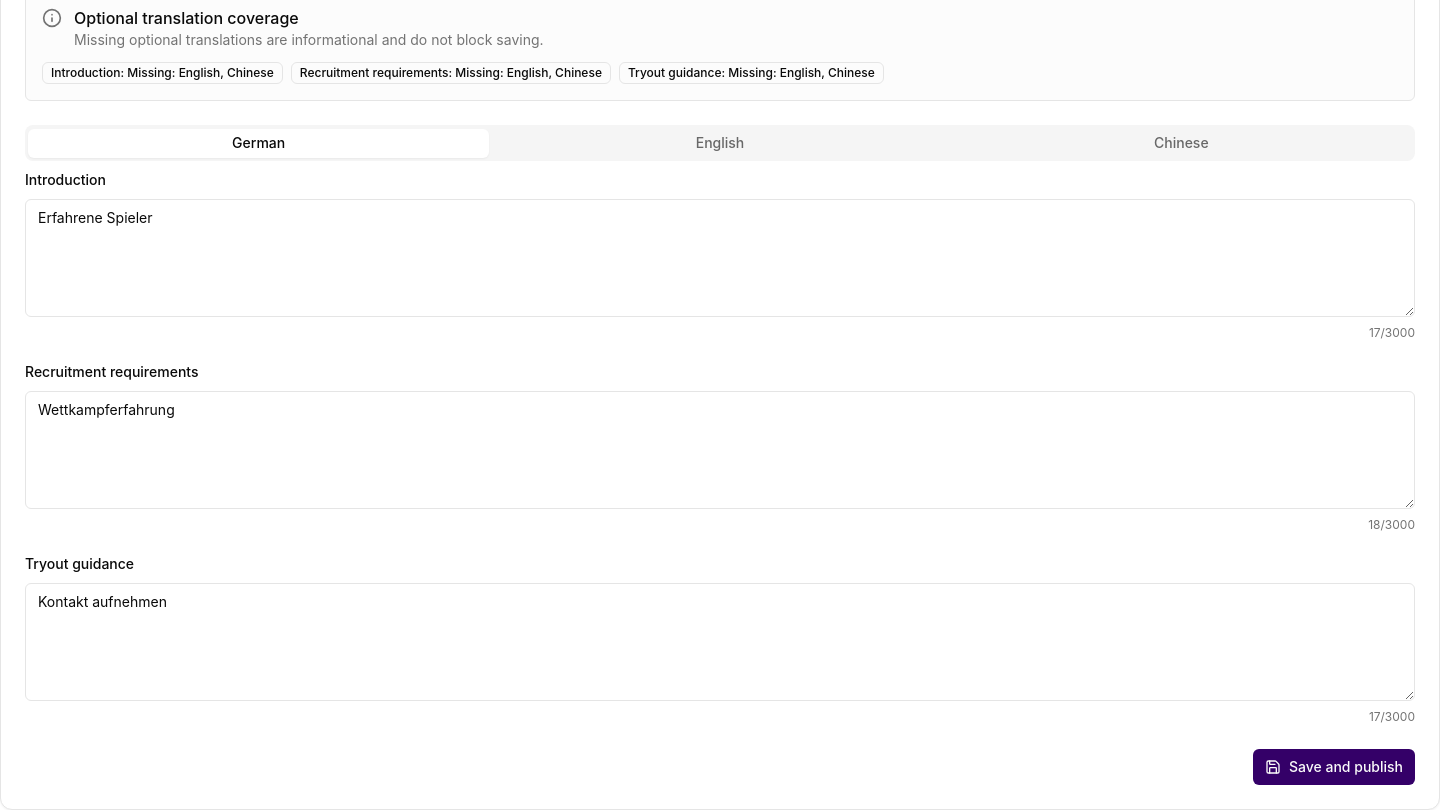
Test: RecruitmentContentEditor › does not publish when Recruitment persistence fails
(page scrolled)
Step 1. Click the button "Save and publish" → (1334, 767), box [1253,749,1415,785]
(page scrolled)
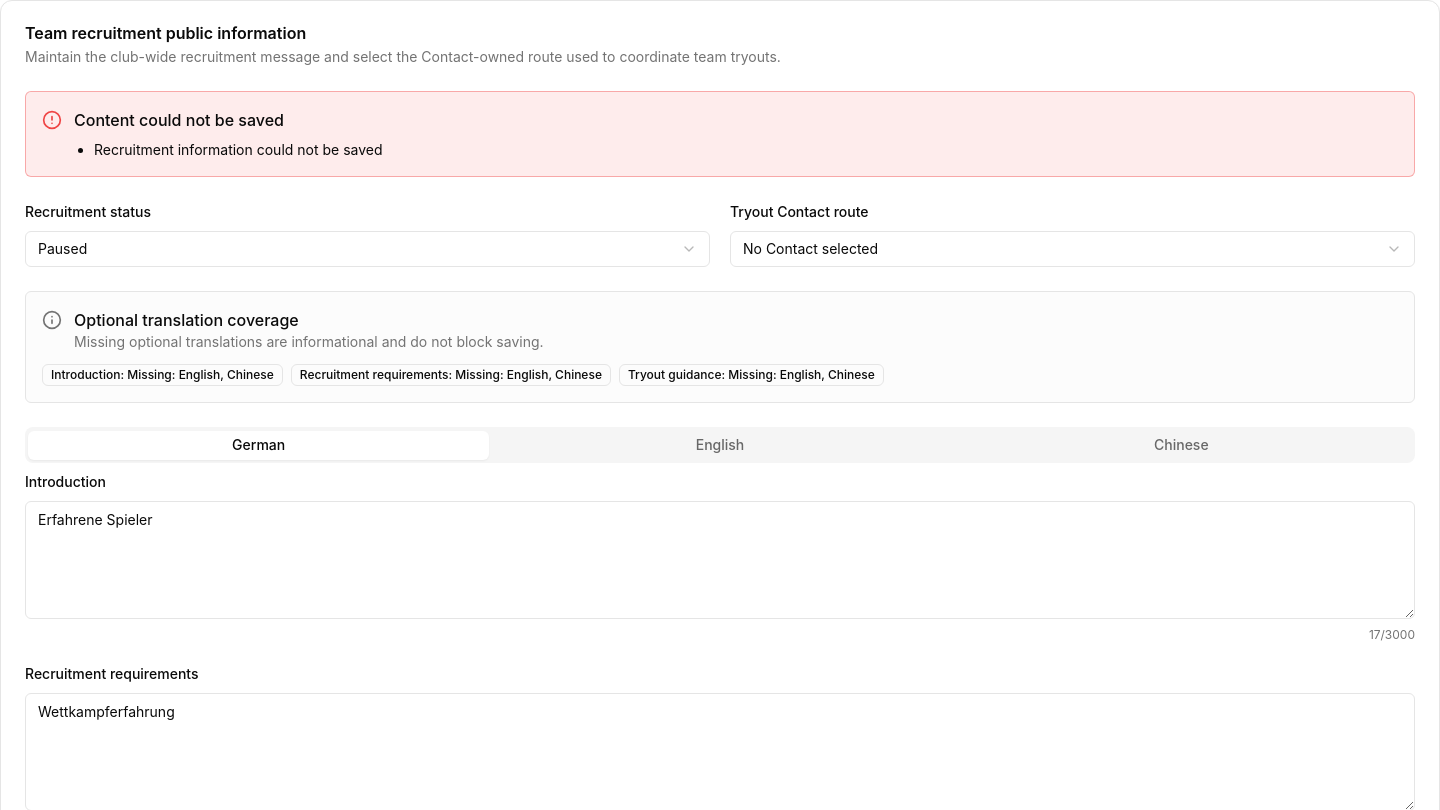
Expected: the message shows "Recruitment information could not be saved", [94,141,382,158]
